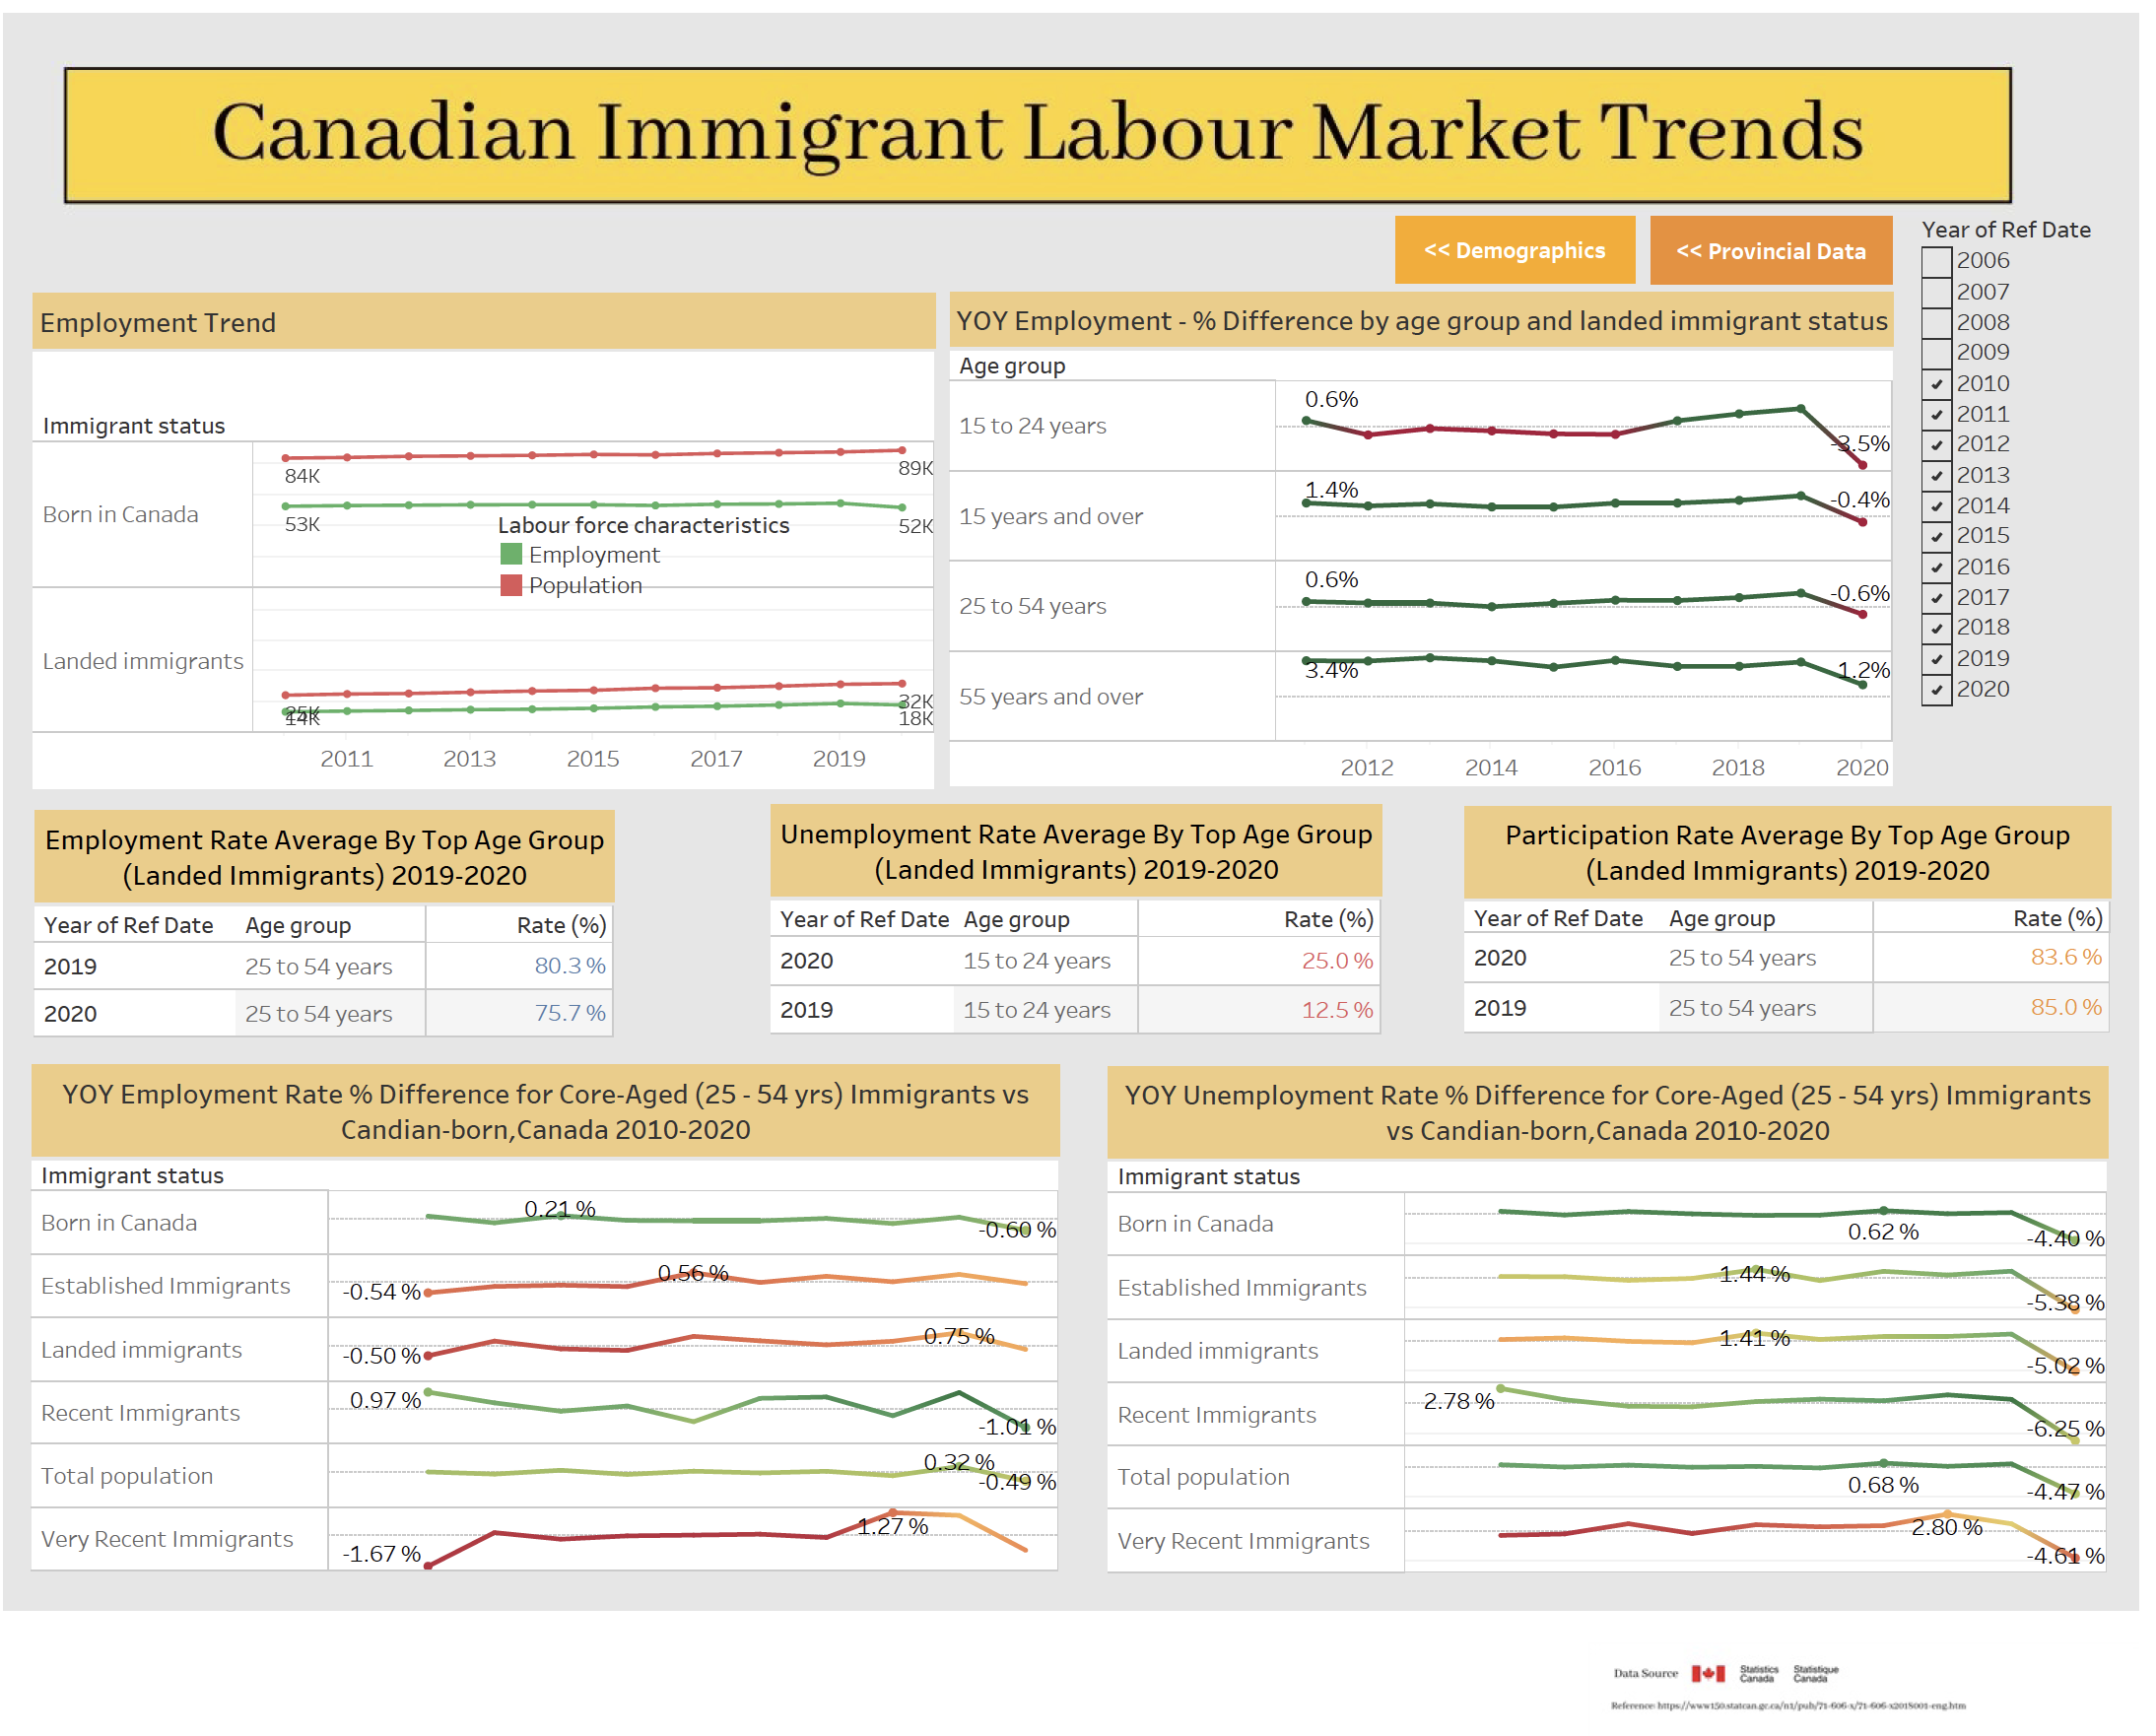

What the dashboard file says about the page in this screenshot:
{"tool":"tableau","page":{"name":"Page 1","canvas":[1500,1200],"ordinal":0},"visuals":[{"type":"blank","box":[8,8,32,1184]},{"type":"image","param":"Image/Canadian Immigrant Labour Market Trends.jpg","box":[40,8,1452,1184]},{"type":"filter","title":"C1","param":"[federated.1yu0uz201fldzw1cwoghz0f1s470].[yr:REF_DATE:ok]","box":[1341,146,135,396]},{"type":"dashboard-object","box":[985,149,162,45]},{"type":"dashboard-object","box":[1158,149,163,46]},{"type":"worksheet","title":"C1","mark":"Line","rows":["Age group","VALUE"],"cols":["REF_DATE"],"box":[684,200,638,335]},{"type":"worksheet","title":"C3","mark":"Automatic","rows":["Immigrant status","VALUE"],"cols":["REF_DATE"],"box":[64,201,610,336]},{"type":"legend","title":"C3","param":"[federated.1yu0uz201fldzw1cwoghz0f1s470].[none:Labour force characteristics:nk]","box":[377,345,210,64]},{"type":"worksheet","title":"C2 (2)","mark":"Automatic","rows":["REF_DATE","Age group"],"box":[563,547,500,287]},{"type":"worksheet","title":"C2 (3)","mark":"Automatic","rows":["REF_DATE","Age group"],"box":[1032,548,444,287]},{"type":"worksheet","title":"C2 (1)","mark":"Automatic","rows":["REF_DATE","Age group"],"box":[65,551,611,190]},{"type":"worksheet","title":"C4(1)","mark":"Line","rows":["Immigrant status","VALUE"],"cols":["REF_DATE"],"box":[63,723,695,343]},{"type":"worksheet","title":"C4 (2)","mark":"Line","rows":["Immigrant status","VALUE"],"cols":["REF_DATE"],"box":[791,724,676,343]}]}

Visuals, with their boxes in screenshot pixels (x1, y1, x2, y2), scaled from the page's 1500x1200 canvas onto the 2156x1736 screenshot:
blank: x1=12 y1=12 x2=57 y2=1724
image: x1=57 y1=12 x2=2144 y2=1724
"C1" filter: x1=1927 y1=211 x2=2122 y2=784
dashboard-object: x1=1416 y1=216 x2=1649 y2=281
dashboard-object: x1=1664 y1=216 x2=1899 y2=282
"C1" worksheet (Line marks): x1=983 y1=290 x2=1900 y2=774
"C3" worksheet: x1=92 y1=291 x2=969 y2=776
"C3" legend: x1=542 y1=500 x2=843 y2=592
"C2 (2)" worksheet: x1=809 y1=791 x2=1528 y2=1207
"C2 (3)" worksheet: x1=1483 y1=793 x2=2122 y2=1208
"C2 (1)" worksheet: x1=94 y1=797 x2=972 y2=1072
"C4(1)" worksheet (Line marks): x1=91 y1=1046 x2=1090 y2=1542
"C4 (2)" worksheet (Line marks): x1=1137 y1=1047 x2=2109 y2=1544
